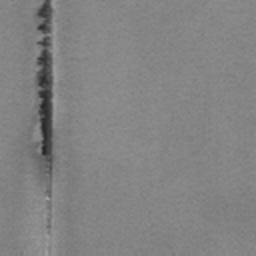Slag inclusion: (32, 0, 58, 236)
